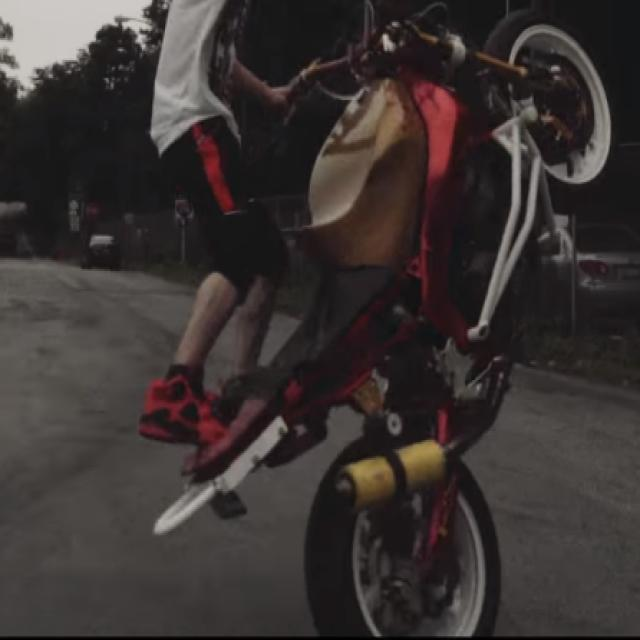shoe: (130, 360, 256, 453)
